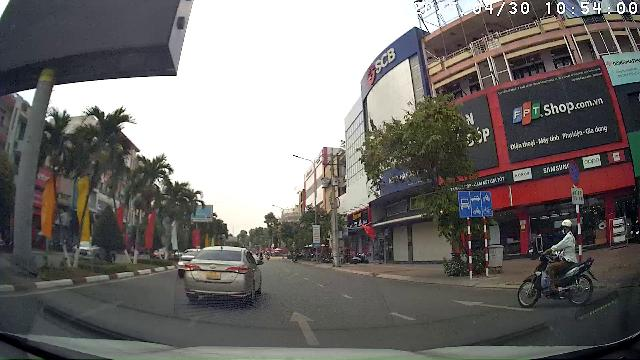130-cam-dung-va-do-xe: (568, 160, 580, 186)
